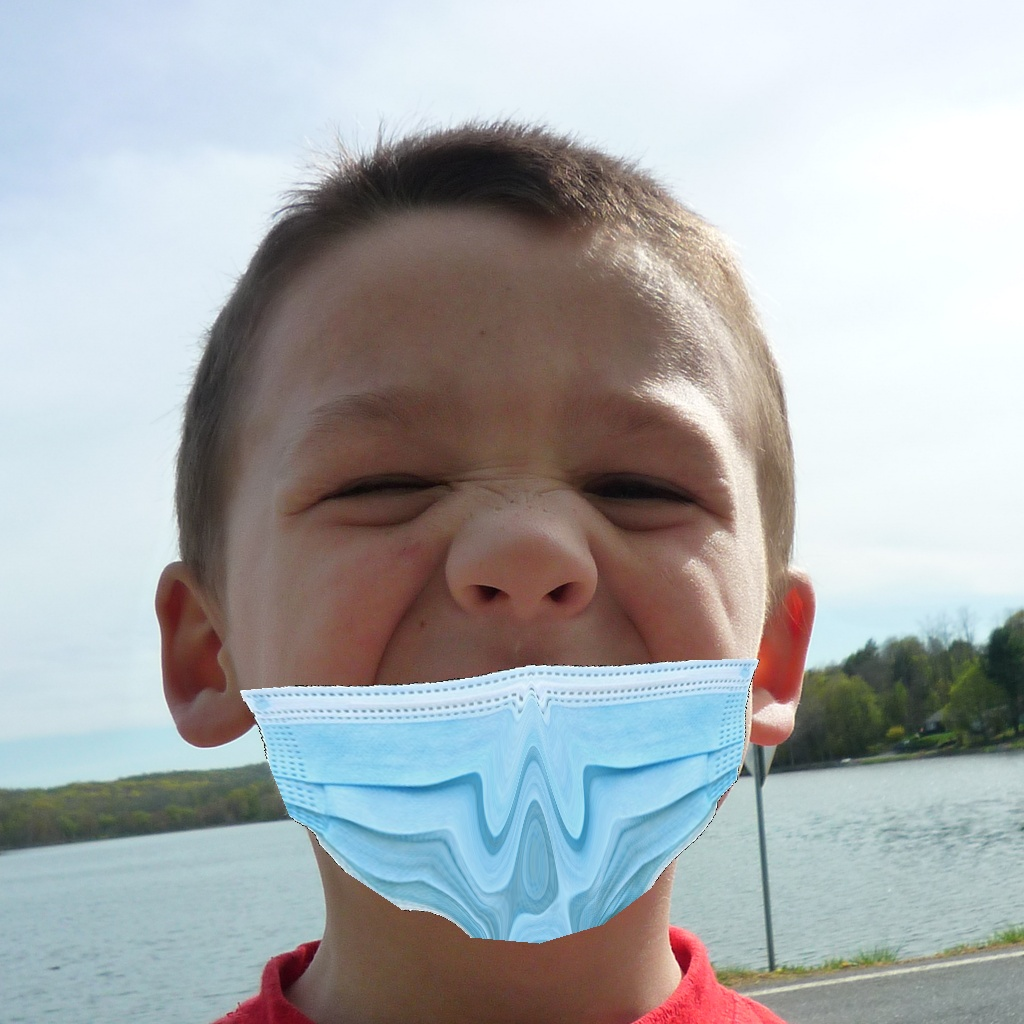mask_weared_incorrect: (248, 414, 757, 945)
